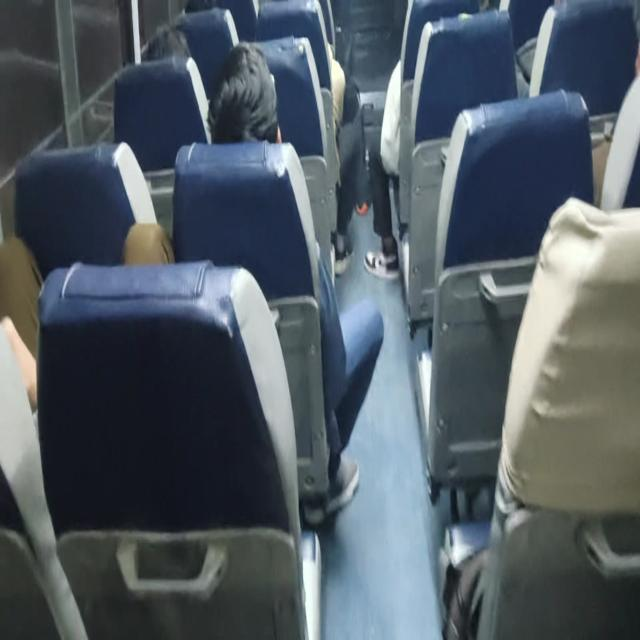person: (205, 40, 384, 518), (363, 0, 479, 279), (0, 314, 89, 638), (206, 41, 282, 145)
